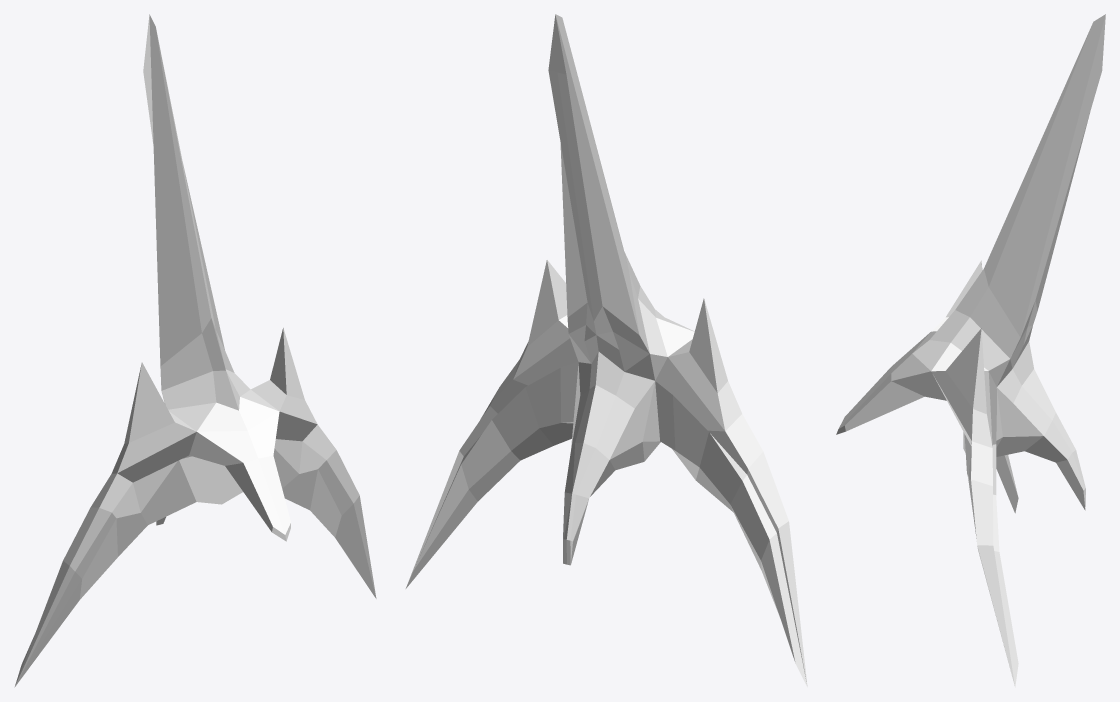
The model's file is head_45.fbx.
The picture shows the model from 3 angles, left to right: view 1: azimuth 30°, elevation 25°; view 2: azimuth 150°, elevation 25°; view 3: azimuth 270°, elevation 25°; orthographic projection. The views are drawn at different scales.
Parts seen in each view (by area): view 1: Cube.176; view 2: Cube.176; view 3: Cube.176.
Boxes of the visible parts, box(x1,y1,x2,y2) form: Cube.176: box(14, 14, 376, 687); Cube.176: box(405, 14, 807, 687); Cube.176: box(836, 14, 1105, 687).
Size of the model in its own units: 125 by 196 by 81.66.
